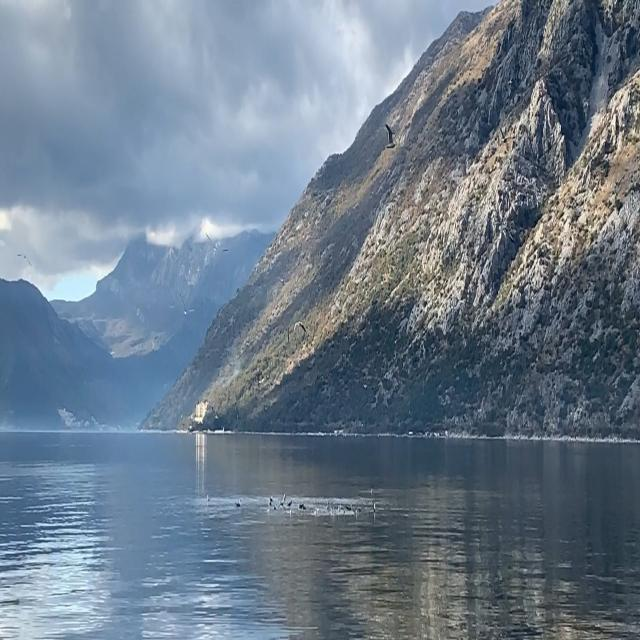bird: (203, 228, 230, 260), (178, 289, 196, 323), (382, 119, 398, 153), (292, 317, 310, 337)
